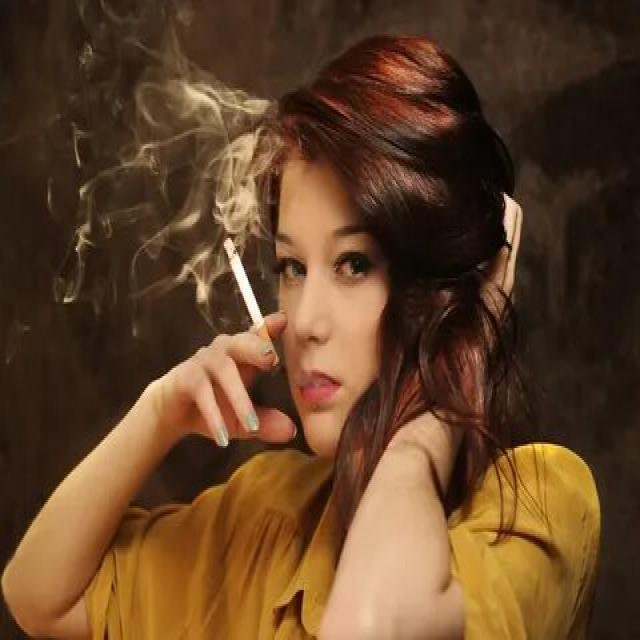smoke: (220, 232, 283, 372)
